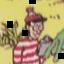waldo: (25, 7, 47, 40)
